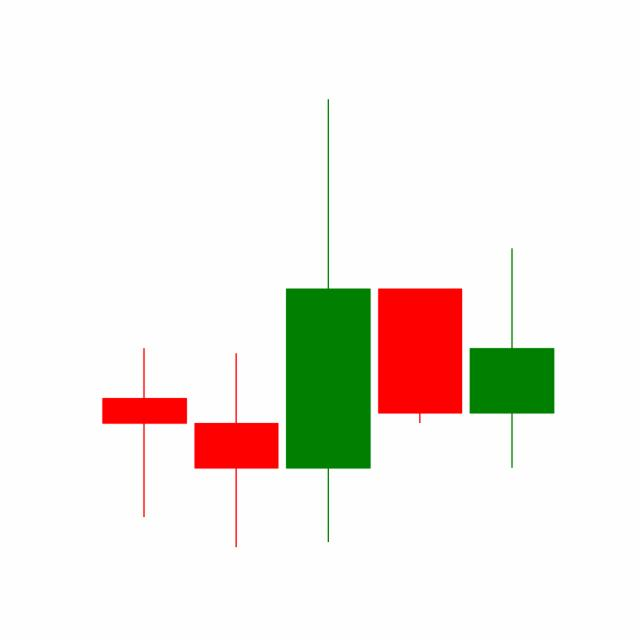Marubozu: (373, 286, 467, 424)
